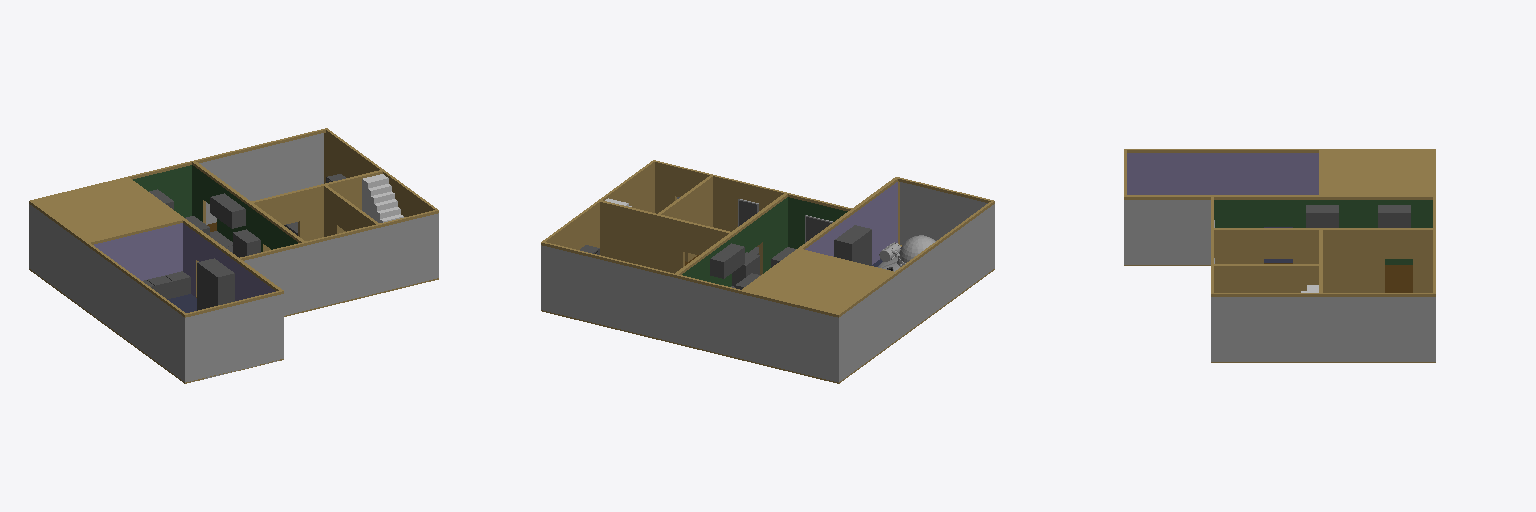
Rendered from second_cut_2.obj.
3 views of the same model, side by side, from view 1: azimuth 30°, elevation 25°; view 2: azimuth 150°, elevation 25°; view 3: azimuth 270°, elevation 25° (orthographic).
Parts seen in each view (by area): view 1: Cube, Garage.Shelf_Cube.005, Foyer.Stairs_Plane, Kitchen.Cabinet3_Cube.016, Kitchen.Fridge_Cube.012; view 2: Cube, Garage.Shelf_Cube.005, Rmspaceship, Kitchen.Cabinet3_Cube.016; view 3: Cube, Kitchen.Cabinet2_Cube.015, Kitchen.Cabinet1_Cube.014.
Part boxes in pixels (x1,y1,x2,y2): Cube: (29, 128, 438, 383); Garage.Shelf_Cube.005: (197, 258, 234, 310); Foyer.Stairs_Plane: (362, 174, 403, 222); Kitchen.Cabinet3_Cube.016: (210, 193, 245, 228); Kitchen.Fridge_Cube.012: (233, 229, 260, 257); Cube: (541, 160, 994, 383); Garage.Shelf_Cube.005: (834, 225, 871, 265); Rmspaceship: (878, 235, 935, 271); Kitchen.Cabinet3_Cube.016: (710, 243, 744, 278); Cube: (1124, 149, 1435, 362); Kitchen.Cabinet2_Cube.015: (1306, 205, 1338, 227); Kitchen.Cabinet1_Cube.014: (1378, 205, 1410, 227).
Size of the model in its own units: 28.65 by 6.33 by 26.02.